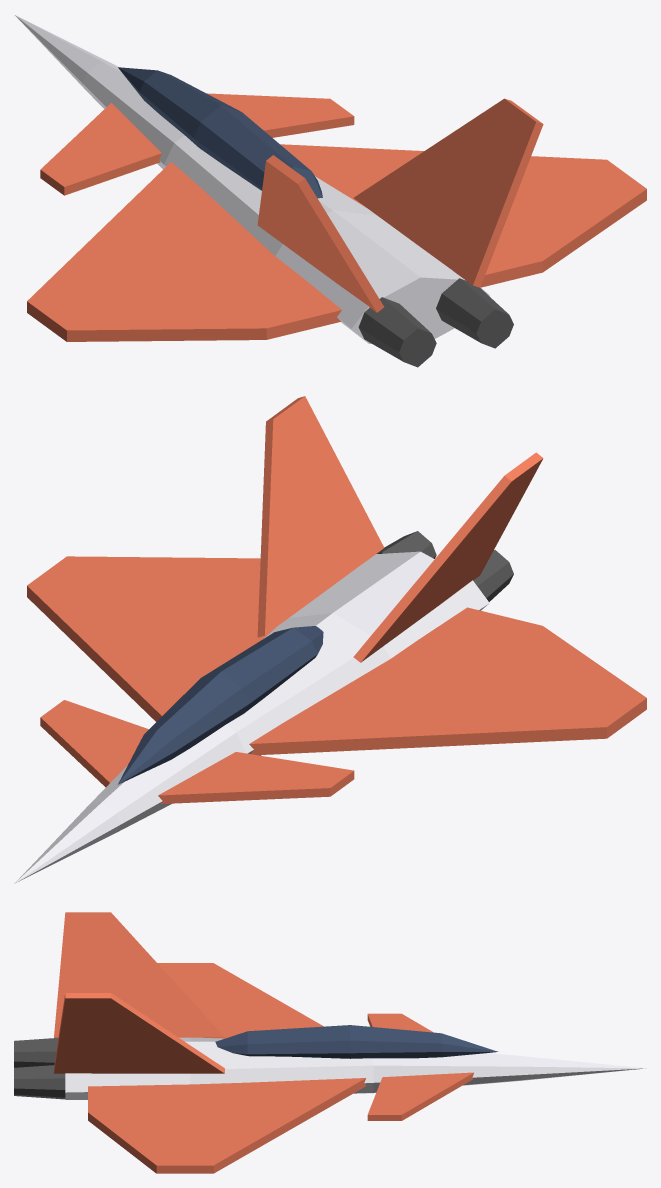
The model's file is player2_canard.glb.
The picture shows the model from 3 angles, top to bottom: view 1: azimuth 30°, elevation 25°; view 2: azimuth 150°, elevation 25°; view 3: azimuth 270°, elevation 25°; orthographic projection. The views are drawn at different scales.
Parts seen in each view (by area): view 1: P2_Wings, P2_TailFins, P2_Fuselage, P2_Canards, P2_Cockpit, P2_Exhausts; view 2: P2_Wings, P2_TailFins, P2_Fuselage, P2_Canards, P2_Cockpit, P2_Exhausts; view 3: P2_Wings, P2_TailFins, P2_Fuselage, P2_Cockpit, P2_Canards, P2_Exhausts.
Boxes of the visible parts, x1,y1,x2,y2 form: P2_Wings: (27,144,646,341); P2_TailFins: (257,98,543,312); P2_Fuselage: (15,15,489,343); P2_Canards: (40,93,354,195); P2_Cockpit: (118,67,322,198); P2_Exhausts: (358,278,513,367); P2_Wings: (27,556,646,755); P2_TailFins: (257,396,543,662); P2_Fuselage: (14,551,489,883); P2_Canards: (40,700,354,803); P2_Cockpit: (118,626,323,784); P2_Exhausts: (376,531,513,601); P2_Wings: (88,963,365,1173); P2_TailFins: (54,912,224,1073); P2_Fuselage: (65,1037,645,1099); P2_Cockpit: (215,1025,498,1058); P2_Canards: (367,1013,473,1120); P2_Exhausts: (14,1038,65,1099).
Bounding box in the file's own units: 4.2 × 1.38 × 5.55.
